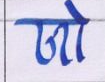e_matra: (63, 2, 88, 19)
